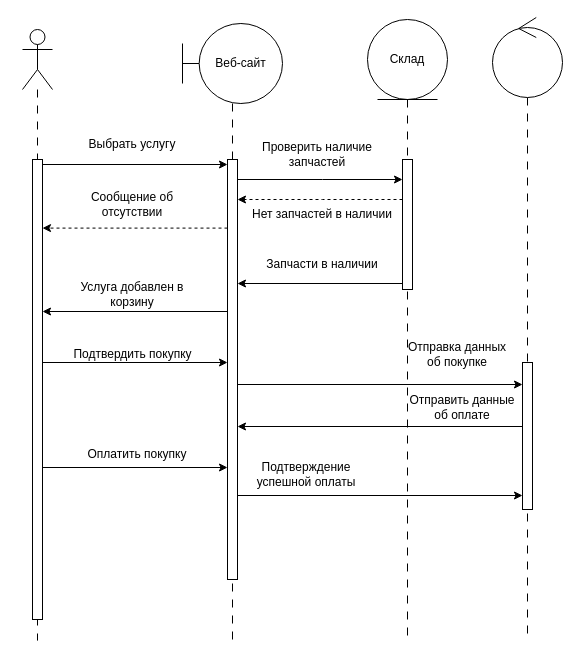
Some shapes in this 580 by 660 pixel diagram are drawn without their labels. Each missing label, with the centre of its shape:
Клиент: the point at 37,59
Система оплаты: the point at 527,57
